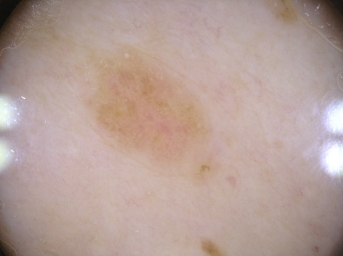seborrheic keratosis: (72, 30, 232, 192)
